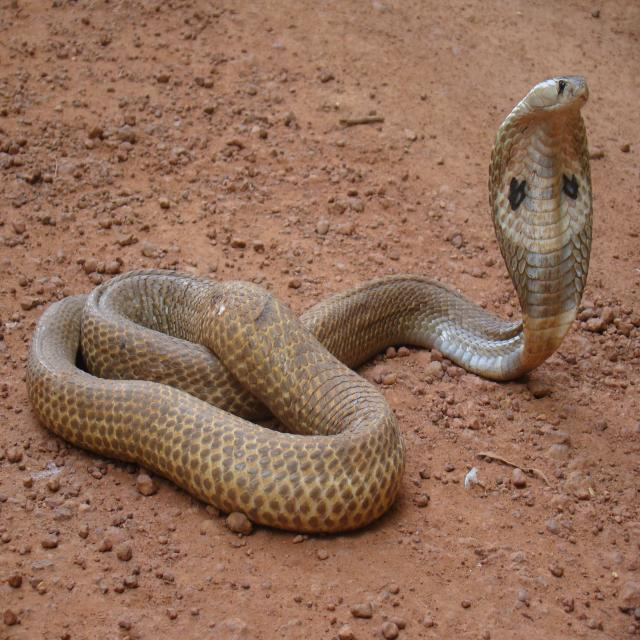Snake: (26, 72, 594, 534)
